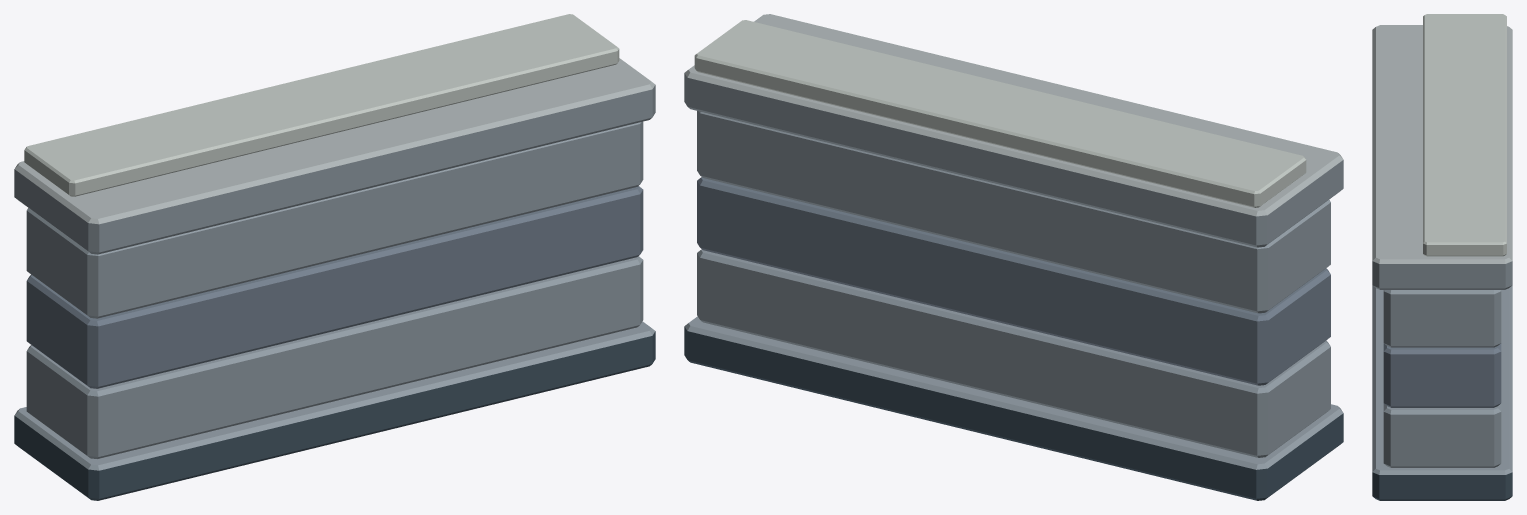
Rendered from wall-straight.glb.
The picture shows the model from 3 angles, left to right: view 1: azimuth 30°, elevation 25°; view 2: azimuth 150°, elevation 25°; view 3: azimuth 270°, elevation 25°; orthographic projection. The views are drawn at different scales.
Visible parts, largest first — view 1: wall-straight__body; view 2: wall-straight__body; view 3: wall-straight__body.
Boxes of the visible parts, x1,y1,x2,y2 form: wall-straight__body: [14, 14, 655, 500]; wall-straight__body: [684, 14, 1343, 500]; wall-straight__body: [1372, 14, 1512, 500].
Size of the model in its own units: 2 by 1 by 0.5.
